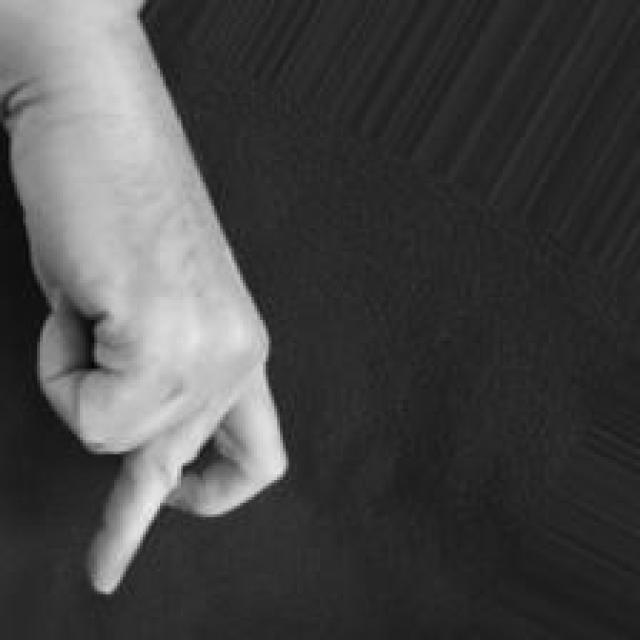P: (4, 113, 298, 597)
